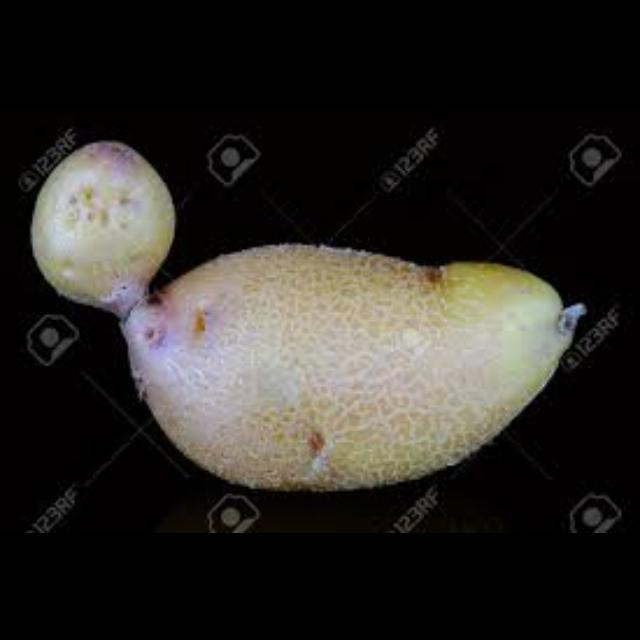Defected potato: (110, 236, 586, 497)
